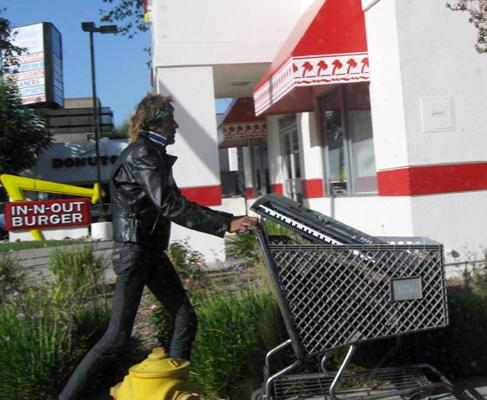person: (50, 93, 264, 400)
